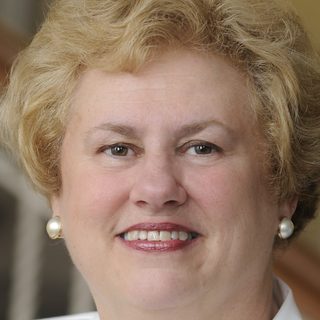eye: (169, 132, 227, 165), (93, 138, 143, 165)
